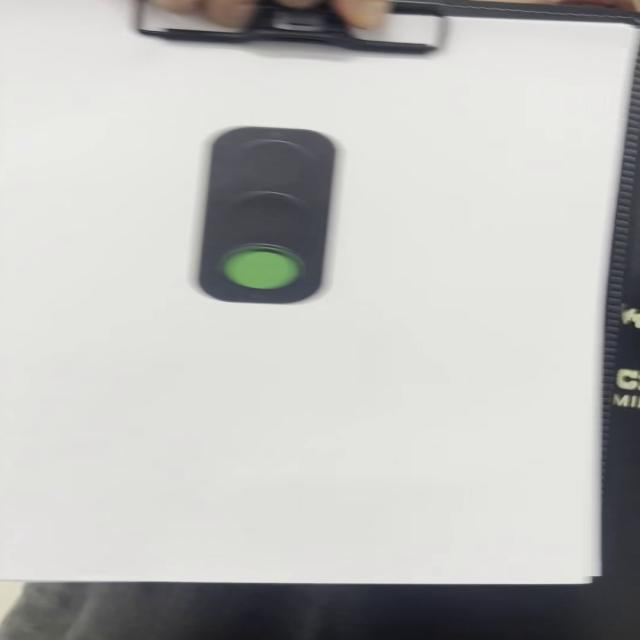green: (191, 127, 331, 308)
